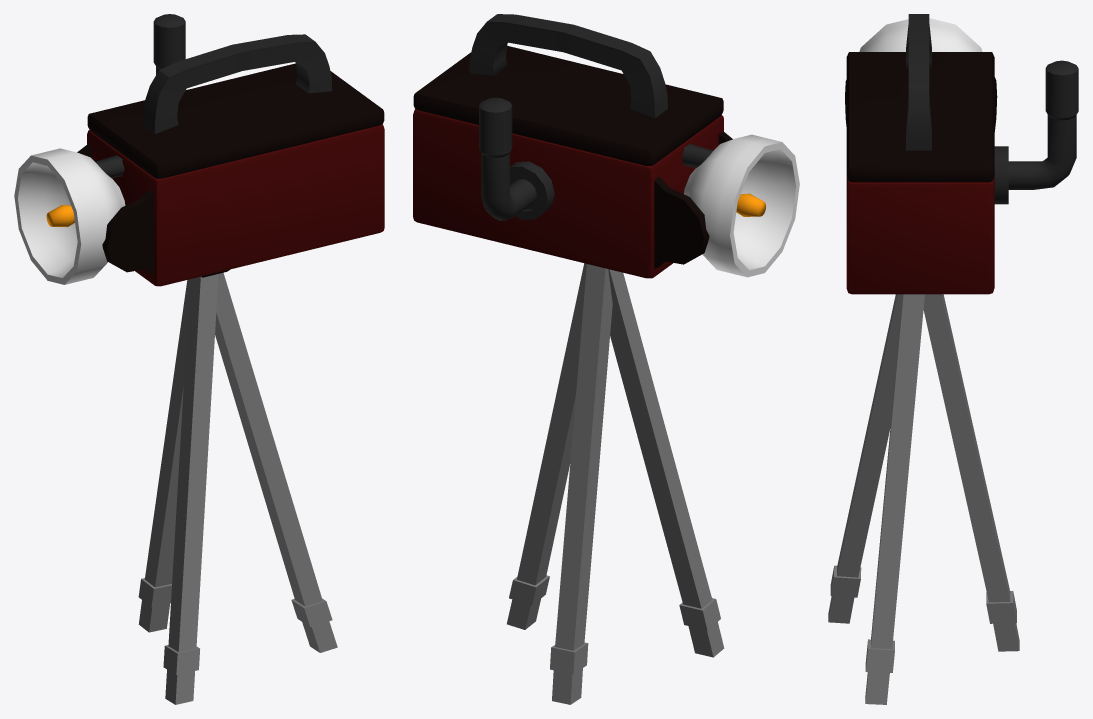
Rendered from linterna.fbx.
The picture shows the model from 3 angles, left to right: view 1: azimuth 30°, elevation 25°; view 2: azimuth 150°, elevation 25°; view 3: azimuth 270°, elevation 25°; orthographic projection. The views are drawn at different scales.
Parts seen in each view (by area): view 1: Cuerpo_1, Cuerpo_2, pata_3, Linterna_1, pata_2, Mango_1, pata_1, Agarre_2, Palanca_2; view 2: Cuerpo_1, Cuerpo_2, pata_1, pata_3, Linterna_1, pata_2, Mango_1, Palanca_2, Agarre_1, Palanca_1; view 3: Cuerpo_2, Cuerpo_1, pata_2, pata_1, pata_3, Palanca_2, Mango_1, Linterna_1, Palanca_1.
Boxes of the visible parts, x1,y1,x2,y2 form: Cuerpo_1: [87, 124, 384, 286]; Cuerpo_2: [87, 63, 384, 178]; pata_3: [163, 274, 218, 704]; Linterna_1: [14, 148, 125, 284]; pata_2: [215, 272, 337, 652]; Mango_1: [142, 34, 332, 133]; pata_1: [138, 279, 189, 632]; Agarre_2: [102, 190, 153, 275]; Palanca_2: [153, 14, 185, 74]; Cuerpo_1: [413, 109, 723, 278]; Cuerpo_2: [413, 46, 723, 165]; pata_1: [550, 264, 612, 704]; pata_3: [608, 269, 724, 657]; Linterna_1: [684, 134, 799, 277]; pata_2: [507, 263, 586, 629]; Mango_1: [469, 14, 667, 118]; Palanca_2: [479, 97, 536, 220]; Agarre_1: [654, 176, 709, 268]; Palanca_1: [510, 161, 554, 219]; Cuerpo_2: [846, 52, 994, 182]; Cuerpo_1: [846, 176, 994, 294]; pata_2: [865, 294, 924, 704]; pata_1: [923, 294, 1019, 651]; pata_3: [828, 294, 902, 623]; Palanca_2: [1008, 60, 1078, 189]; Mango_1: [906, 14, 931, 150]; Linterna_1: [859, 18, 982, 51]; Palanca_1: [994, 146, 1008, 204].
Size of the model in its own units: 32.04 by 60.68 by 22.04.
